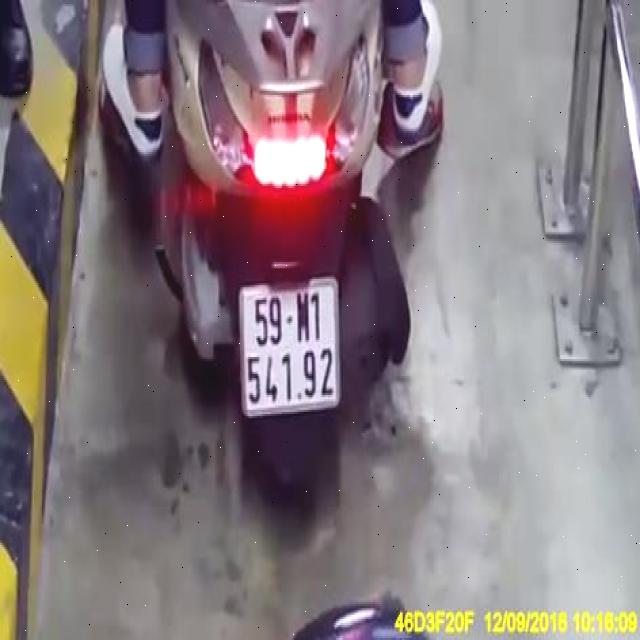1: (281, 351, 296, 403), (310, 285, 322, 342)
2: (320, 347, 338, 398)
4: (264, 353, 280, 404)
5: (252, 296, 270, 348), (247, 352, 264, 407)
9: (268, 294, 285, 348), (302, 348, 319, 399)
M: (296, 290, 312, 344)
